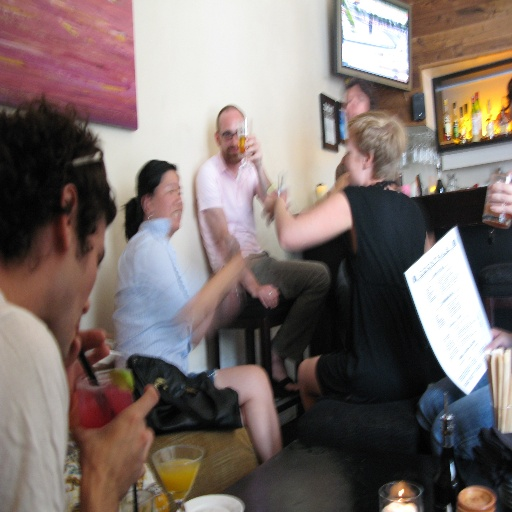hand: (69, 382, 160, 503), (63, 319, 111, 398), (488, 171, 511, 216), (252, 284, 279, 312), (484, 328, 511, 354), (264, 194, 287, 220), (244, 132, 262, 165), (332, 173, 348, 193)
